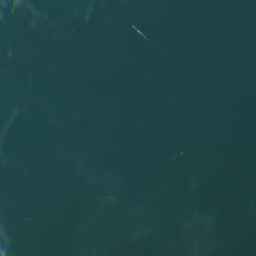Ship: (131, 24, 147, 40)
